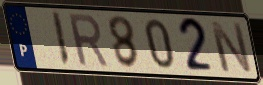0: (143, 17, 177, 71)
2: (175, 16, 219, 76)
8: (107, 14, 141, 71)
I: (50, 10, 72, 69)
N: (207, 20, 255, 75)
R: (65, 12, 111, 69)
